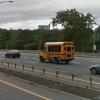Bus: (33, 37, 82, 65)
